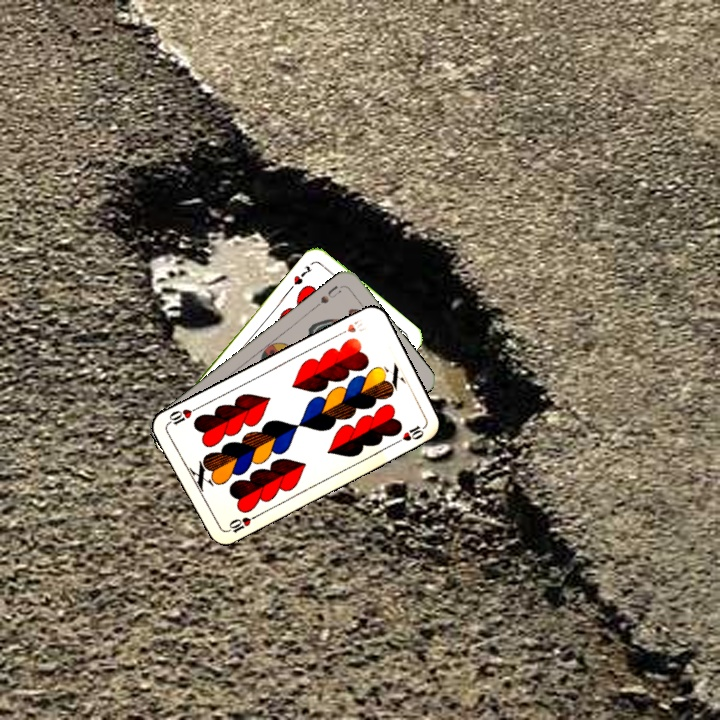H10: (222, 511, 259, 536), (333, 314, 369, 339)
H7: (289, 261, 314, 287)
SU: (310, 281, 345, 311)
